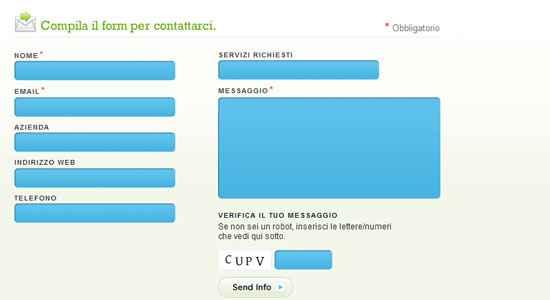button: (216, 273, 295, 297)
textbox: (14, 201, 179, 228)
